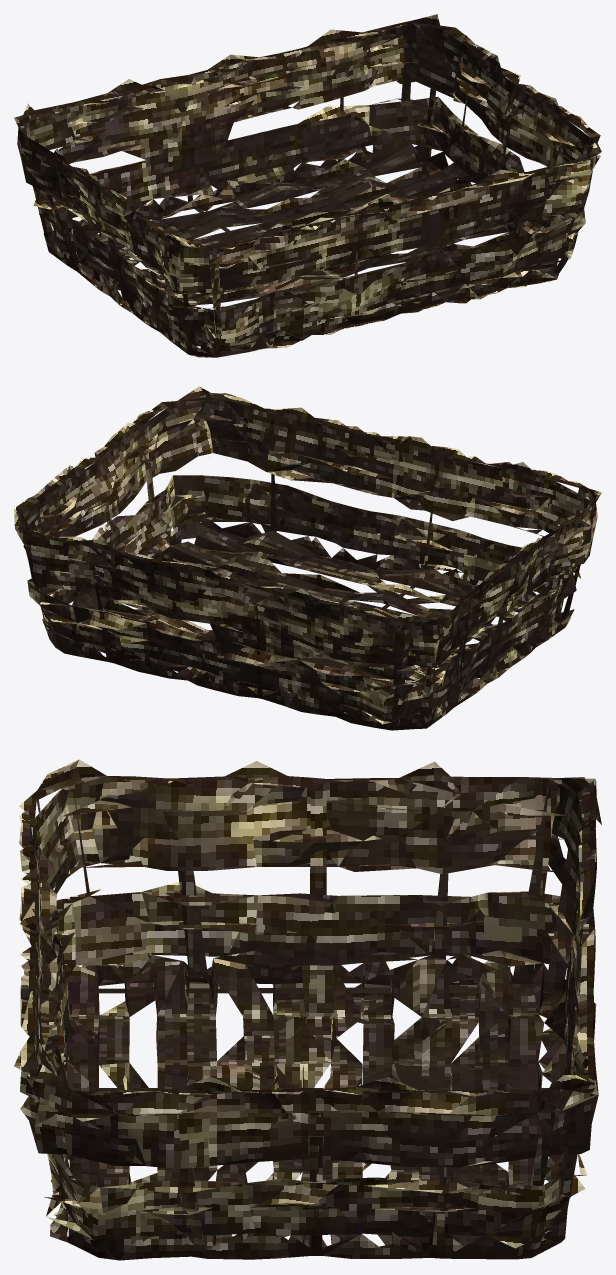
File: basket.glb
The picture shows the model from 3 angles, top to bottom: view 1: azimuth 30°, elevation 25°; view 2: azimuth 150°, elevation 25°; view 3: azimuth 270°, elevation 25°; orthographic projection. The views are drawn at different scales.
Visible parts, largest first — view 1: body; view 2: body; view 3: body.
Part boxes in pixels (<box>): body: <box>14,14,601,357</box>; body: <box>14,386,601,730</box>; body: <box>14,759,601,1260</box>.
Bounding box in the file's own units: 0.3914 × 0.1174 × 0.302.
1 material, 1 textured.
